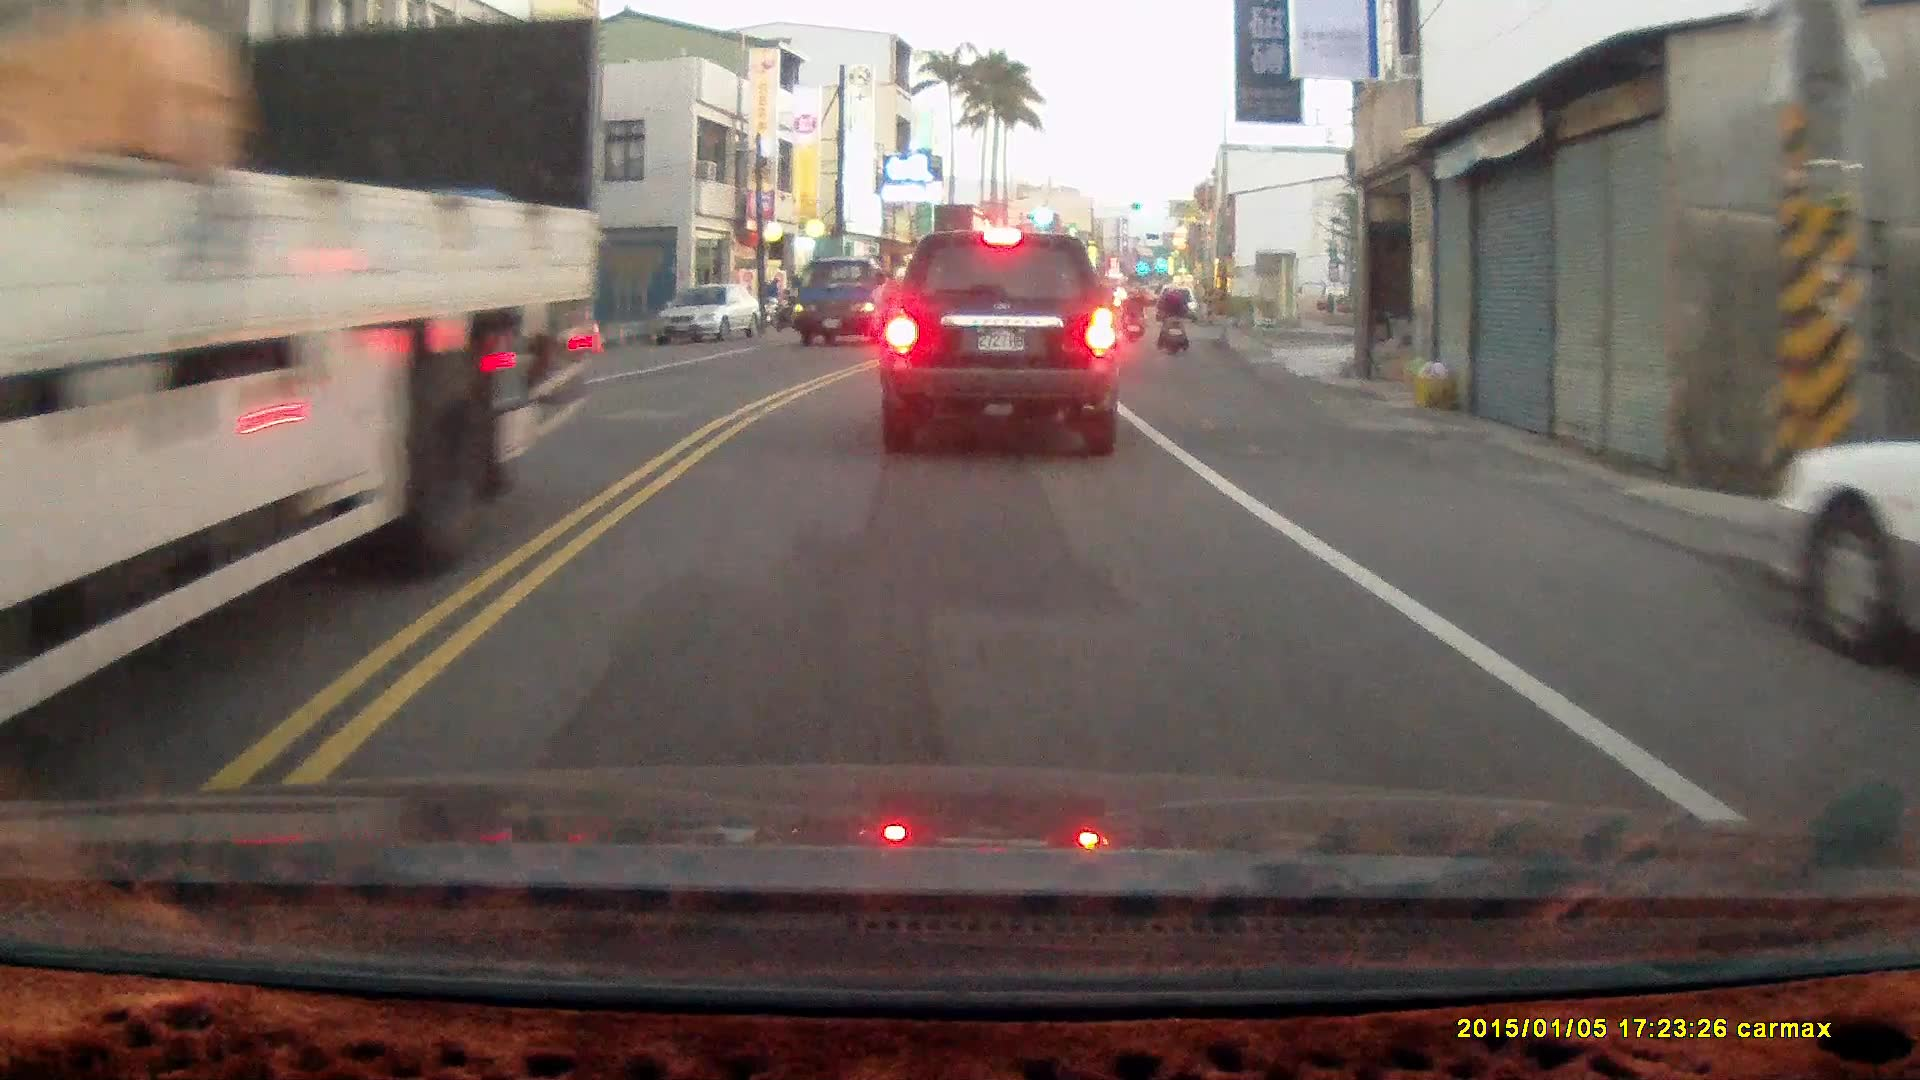rider: (1155, 277, 1186, 357), (1119, 280, 1146, 344)
vehicle: (1, 0, 580, 781), (878, 229, 1125, 459), (1764, 418, 1920, 666), (790, 256, 910, 351), (653, 283, 761, 346)
